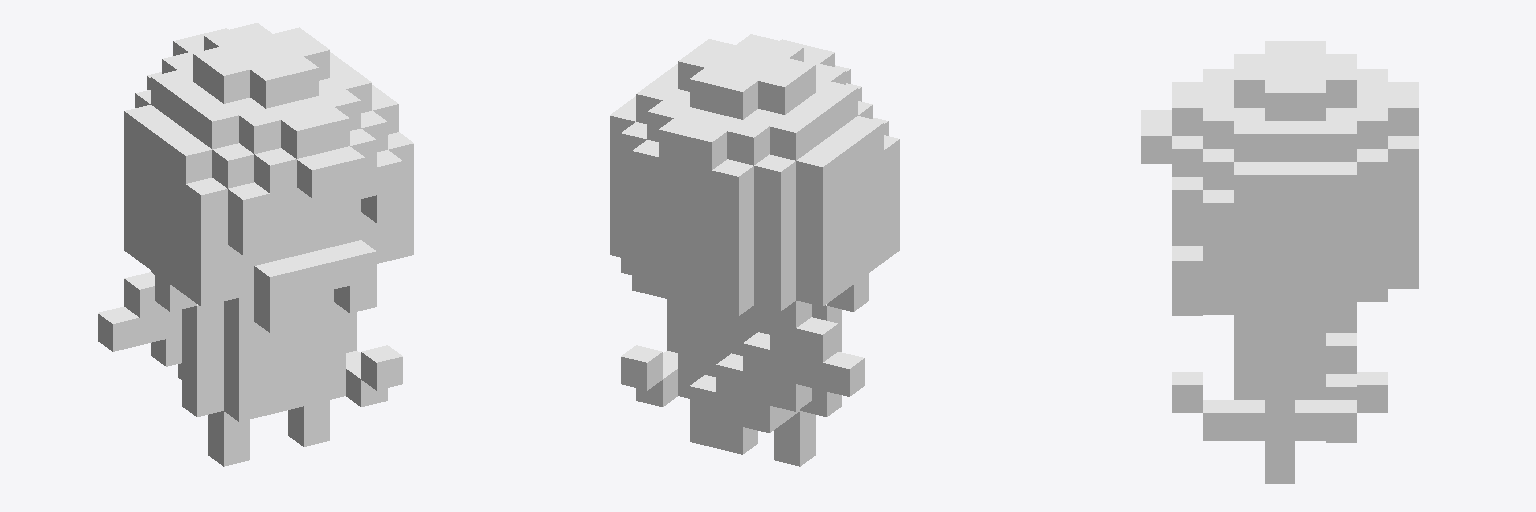
Rendered from hunter.obj.
The picture shows the model from 3 angles: view 1: azimuth 30°, elevation 25°; view 2: azimuth 150°, elevation 25°; view 3: azimuth 270°, elevation 25°; orthographic projection.
Size of the model in its own units: 9 by 14 by 9.